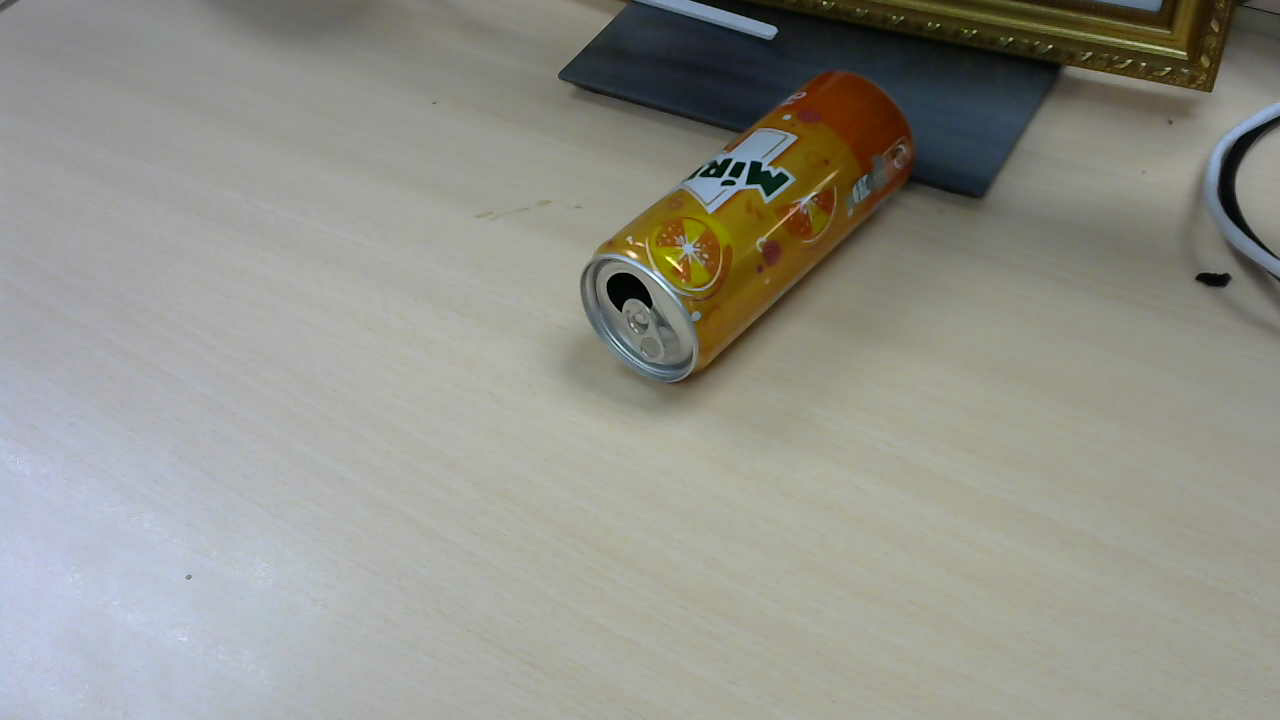Mirinda: (585, 73, 921, 386)
